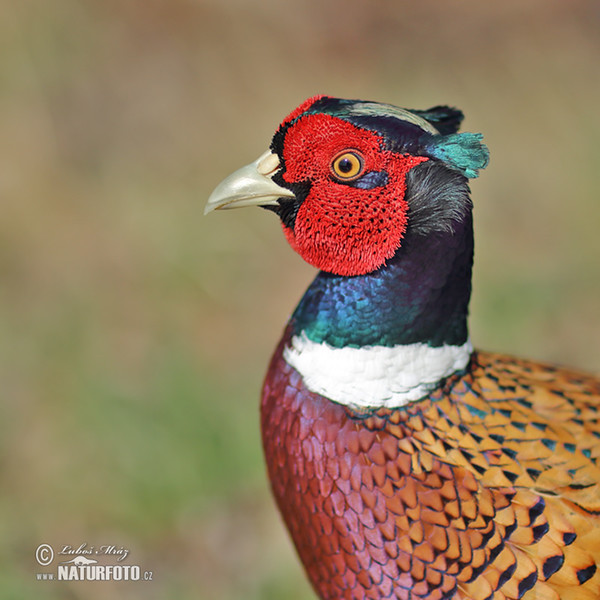pheasant: (205, 86, 591, 592)
